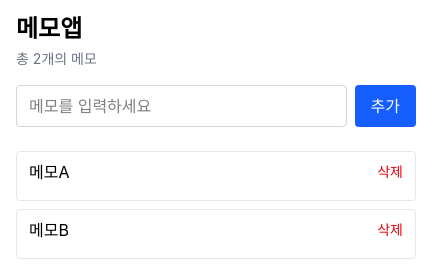
Test case: App 한 번에 한 메모만 편집 › App should show an input filled with the current text of memo B when memo B's text is double-clicked while memo A is being edited
Double-click the text "메모A" at {"x": 49, "y": 172}, box [29,160,70,184]
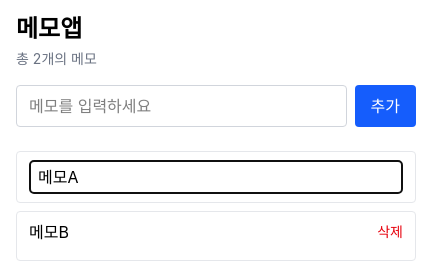
Double-click the text "메모B" at {"x": 49, "y": 232}, box [29,220,69,244]
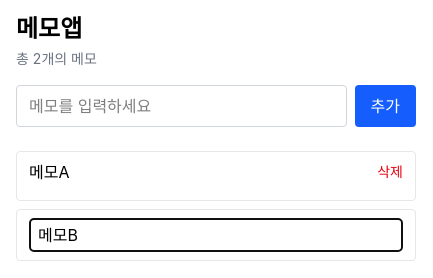
Result: the field showing "메모B" is shown at [29,218,403,252]
